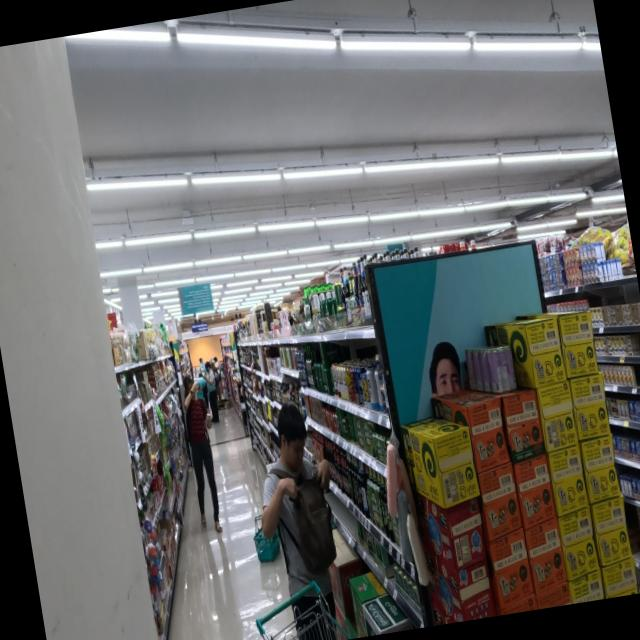shoplifting: (239, 395, 356, 640)
